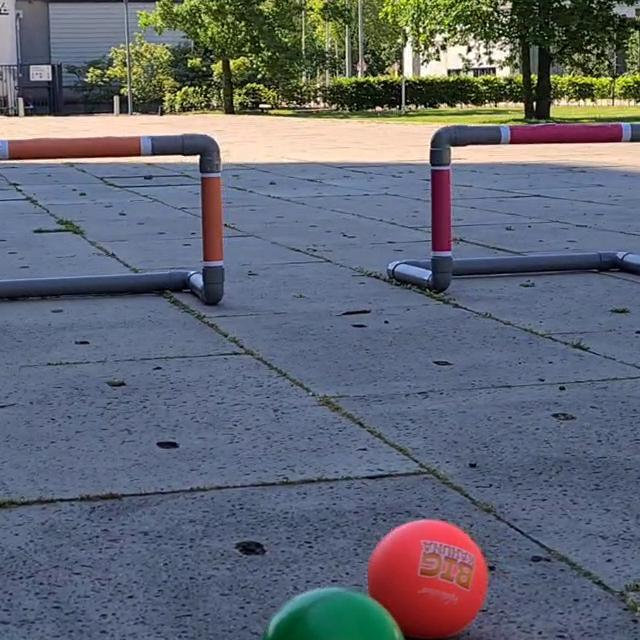ball: (265, 584, 407, 640)
